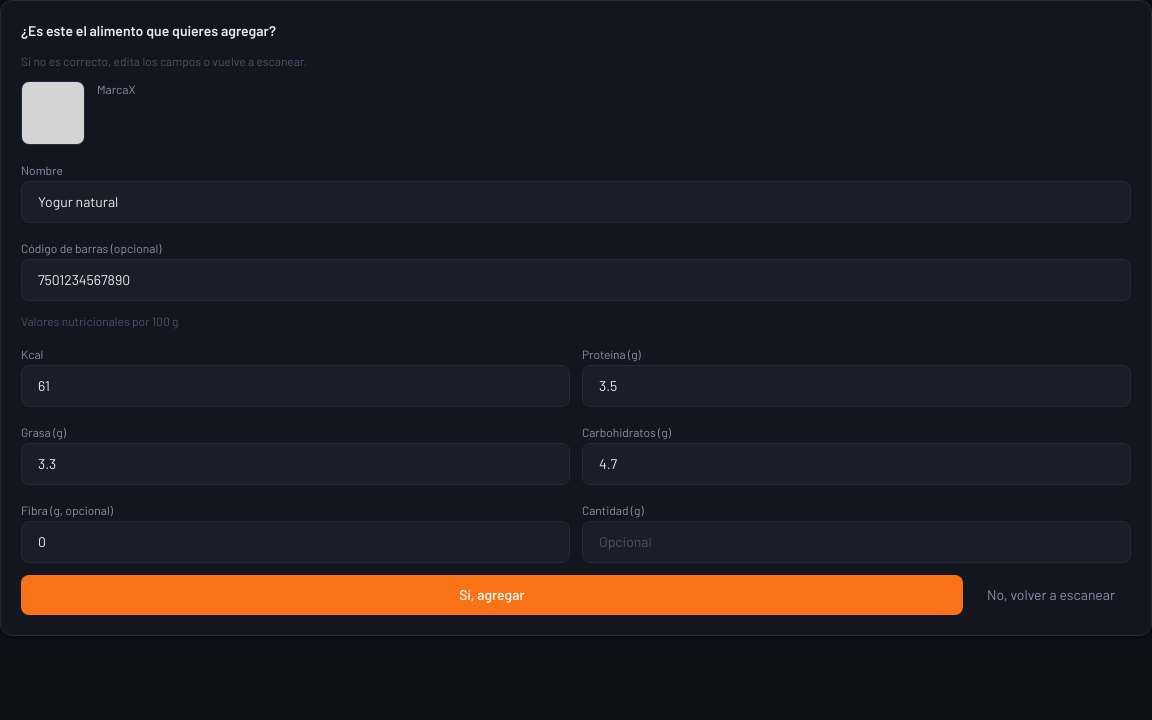
Test: FoodConfirm (Req 5.1, 5.2, 5.4, 5.5) › shows the Spanish range error and preserves the form on failure (Req 5.4)
The image size is (1152, 720).
Click the button "Sí, agregar": (492, 595) x1=21 y1=575 x2=963 y2=615
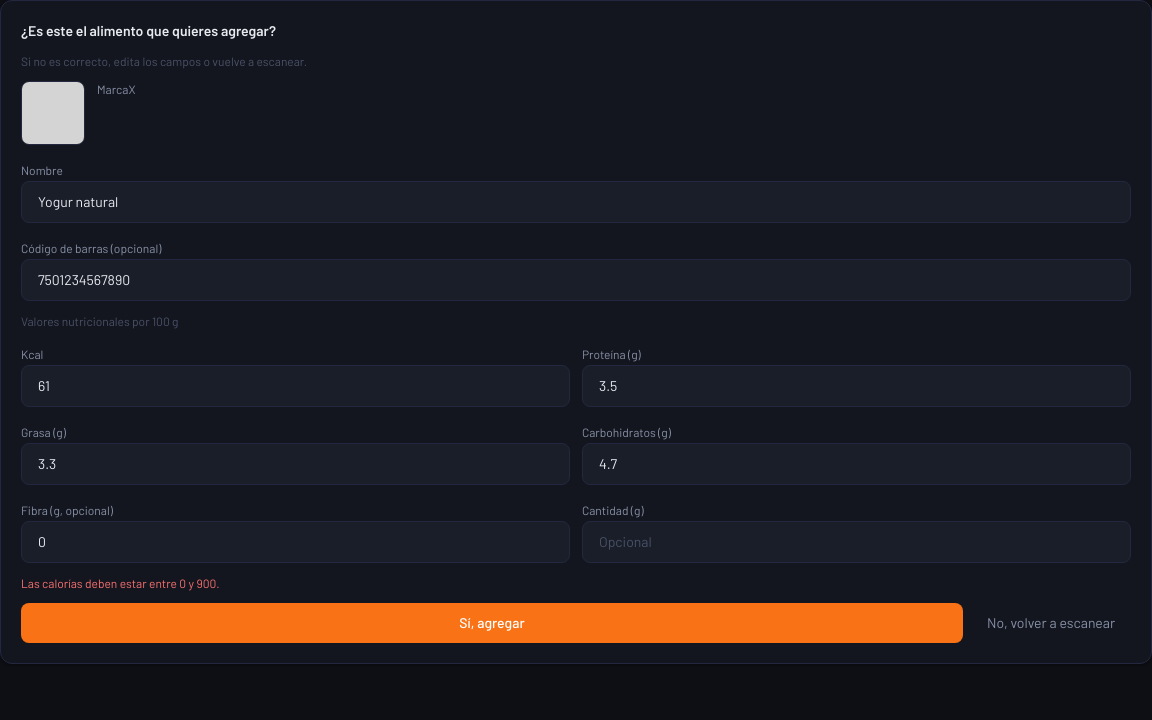
Expected: the field showing "Yogur natural" below "Nombre" is shown, x1=21 y1=181 x2=1131 y2=223
Result: the text "Las calorías deben estar entre 0 y 900." is shown at x1=21 y1=576 x2=220 y2=590
